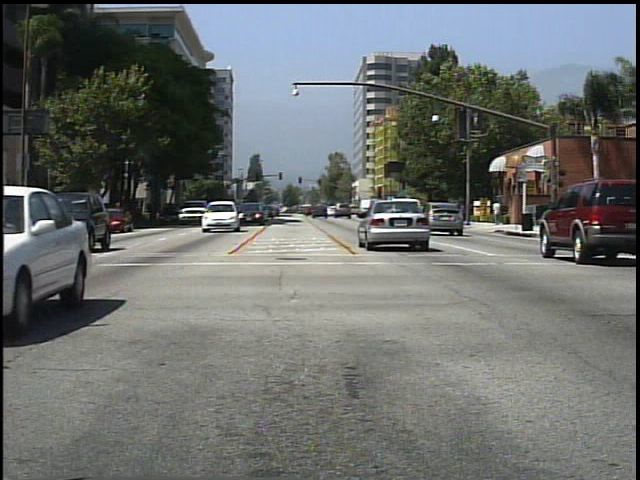person: (448, 194, 466, 229), (492, 196, 504, 227)
